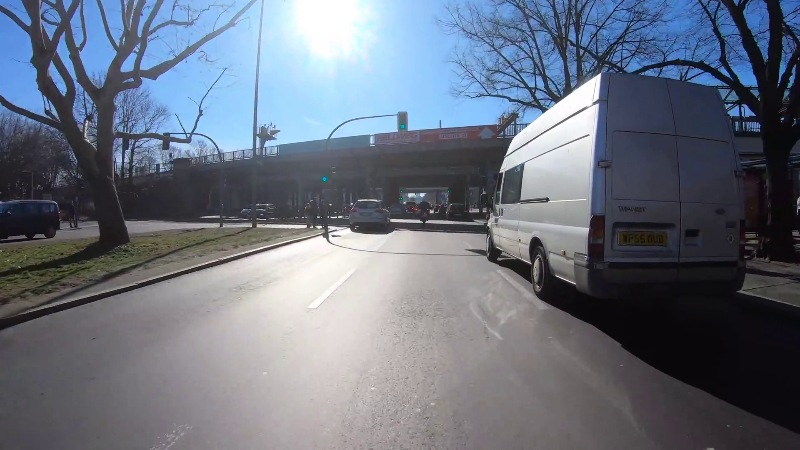Plate: (614, 229, 670, 247)
